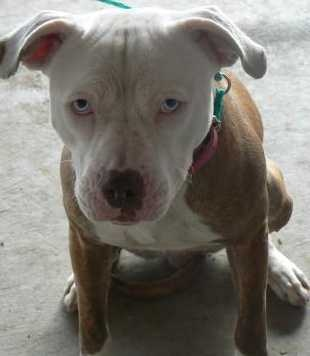Dog: (24, 9, 291, 330)
